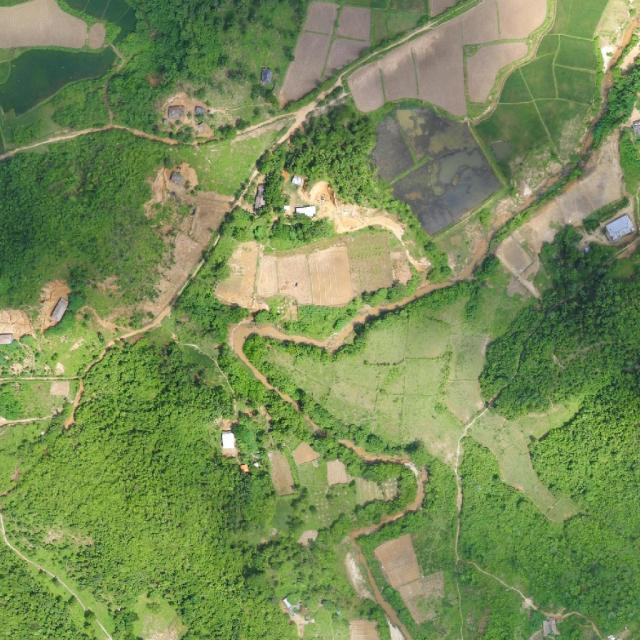agricultural_land: (258, 259, 510, 469), (488, 119, 640, 299), (353, 82, 510, 243), (236, 232, 413, 313), (275, 0, 435, 87), (578, 0, 640, 72)
greenland: (0, 131, 166, 308), (342, 446, 499, 616), (277, 90, 424, 222), (531, 385, 640, 534), (203, 346, 317, 455), (0, 320, 120, 420), (271, 547, 387, 640), (461, 267, 534, 344), (249, 521, 323, 596), (354, 460, 419, 530), (365, 273, 456, 322), (292, 316, 375, 363), (0, 420, 51, 492), (266, 206, 336, 252), (51, 75, 109, 130), (310, 429, 370, 480), (0, 381, 67, 420), (313, 511, 359, 554), (428, 296, 476, 334), (259, 145, 286, 211), (337, 539, 371, 578), (384, 588, 413, 624), (264, 171, 288, 211), (232, 226, 249, 241)
